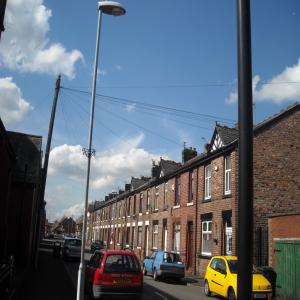Vehicle-registration-plate: (113, 276, 132, 284), (254, 292, 268, 298), (167, 266, 179, 272), (73, 253, 79, 257)
